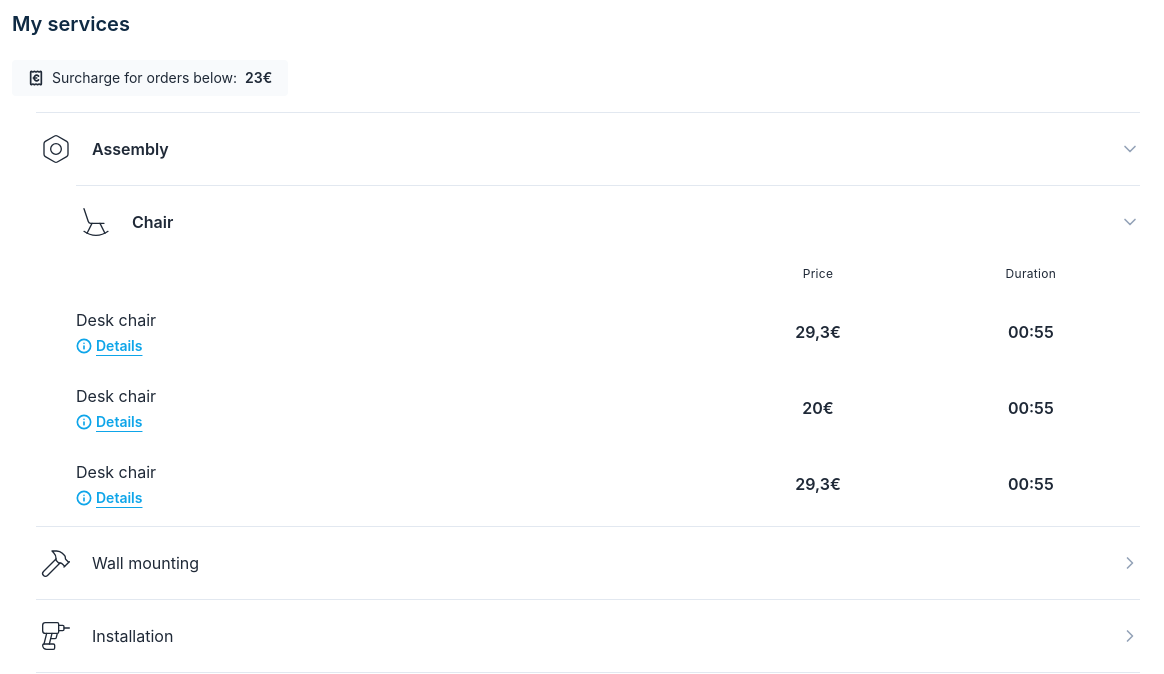
Test: ServiciosSection accordion › collapses and re-expands service rows updating aria + inert props
This screenshot has width=1164, height=674.
Click the button "Assembly".
click(56, 149)  # box [36,113,1140,185]
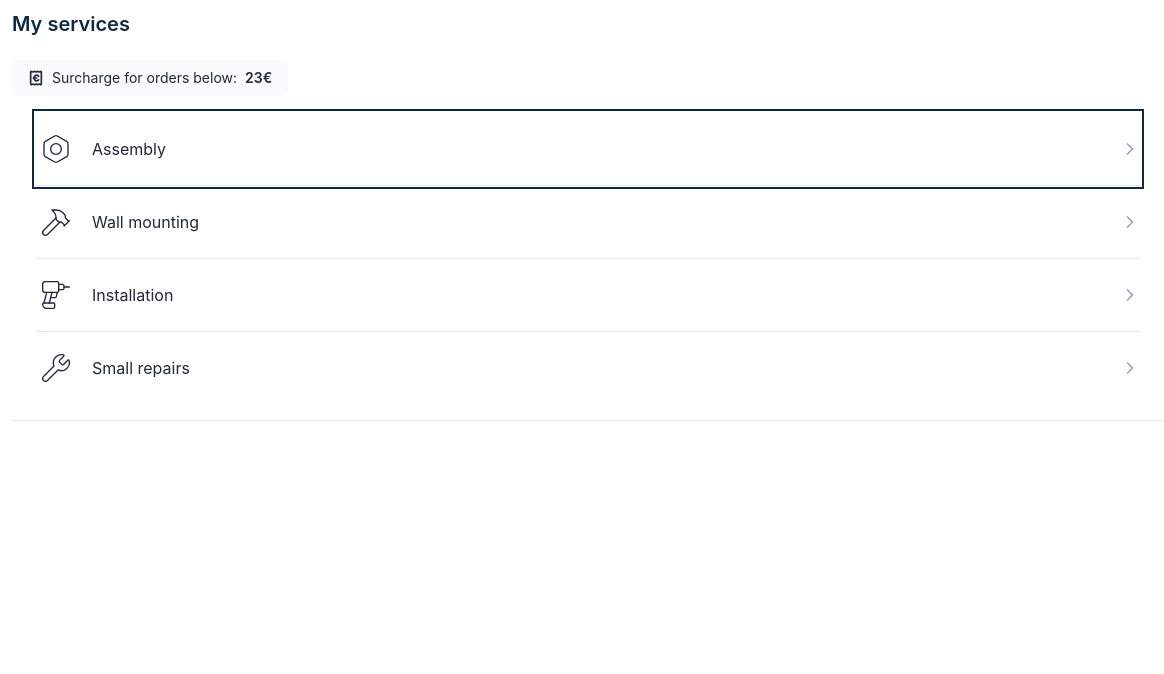
Check: the button "Assembly" is collapsed
Click the button "Assembly".
click(56, 149)  # box [36,113,1140,185]
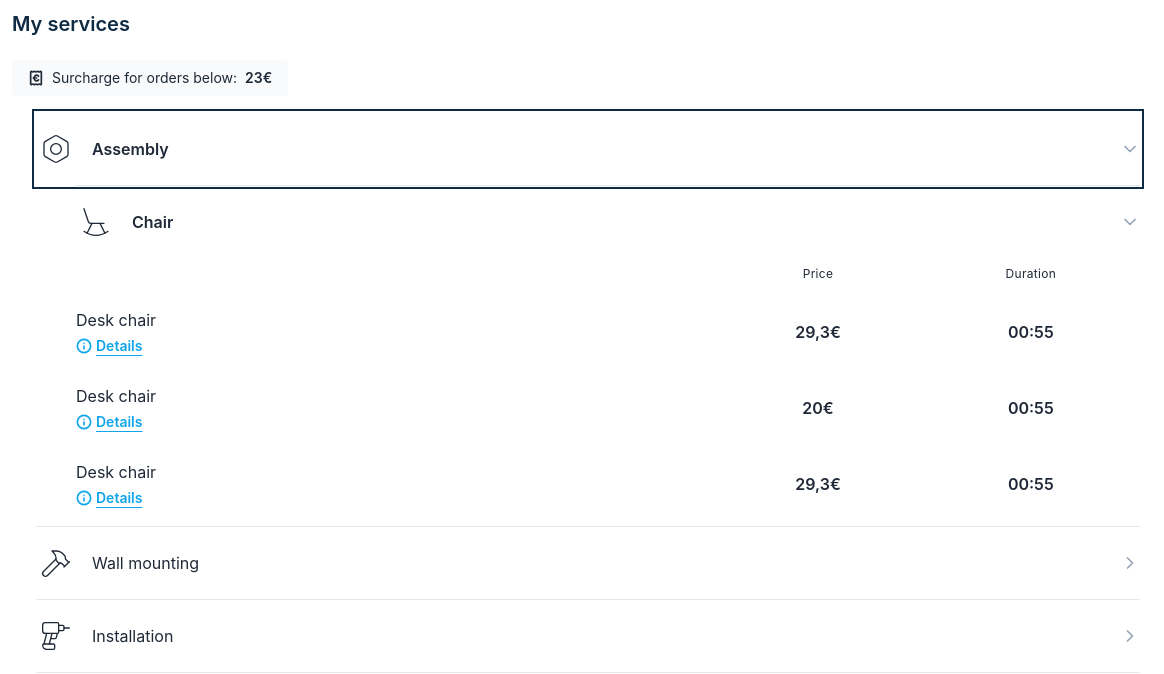
Check: the button "Assembly" is expanded, box [36,113,1140,185]
